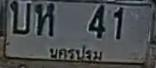1: (113, 6, 122, 38)
4: (88, 4, 104, 37)
A26: (9, 0, 30, 34)
A41: (34, 2, 53, 35)
NPT: (47, 43, 106, 64)
